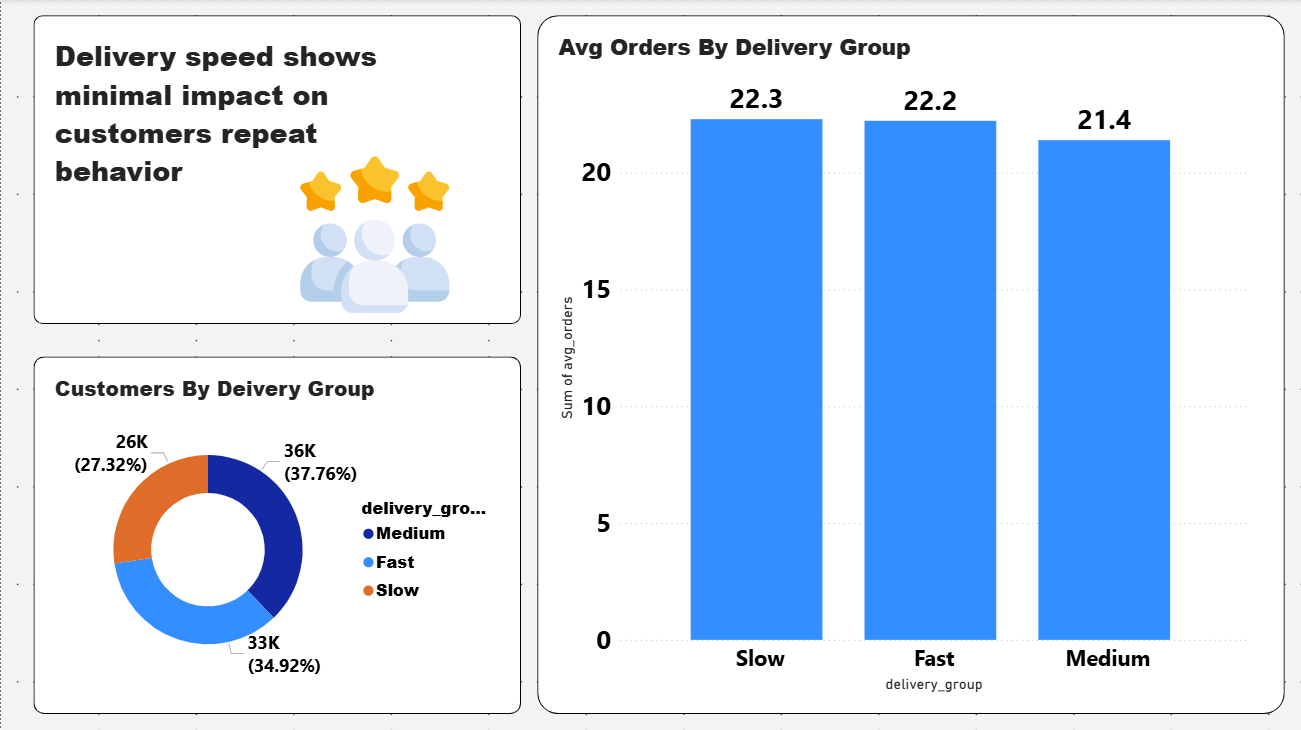

Layout of this report page (visuals, bound fields, positions):
{"tool":"powerbi","page":{"name":"Review analysis","canvas":[1280,720],"ordinal":3},"visuals":[{"type":"shape","box":[528,16,736,688],"z":0},{"type":"columnChart","title":"Avg Orders By Delivery Group","fields":{"Category":["Query5.delivery_group"],"Y":["Sum(Query5.avg_orders)"]},"box":[544,32,688,656],"z":1000},{"type":"shape","box":[32,352,480,352],"z":2000},{"type":"donutChart","title":"Customers By Deivery Group","fields":{"Category":["Query5.delivery_group"],"Y":["Sum(Query5.customers)"]},"box":[48,368,448,320],"z":3000},{"type":"shape","box":[32,16,480,304],"z":4000},{"type":"textbox","box":[48,32,352,208],"z":5000},{"type":"image","box":[240,144,256,176],"z":6000}]}

Visuals, with their boxes in screenshot pixels (x1, y1, x2, y2), scaled from the page's 1280x720 canvas onto the 1301x730 screenshot:
shape: <bbox>537, 16, 1285, 714</bbox>
"Avg Orders By Delivery Group" columnChart: <bbox>553, 32, 1252, 698</bbox>
shape: <bbox>33, 357, 520, 714</bbox>
"Customers By Deivery Group" donutChart: <bbox>49, 373, 504, 698</bbox>
shape: <bbox>33, 16, 520, 324</bbox>
textbox: <bbox>49, 32, 407, 243</bbox>
image: <bbox>244, 146, 504, 324</bbox>
